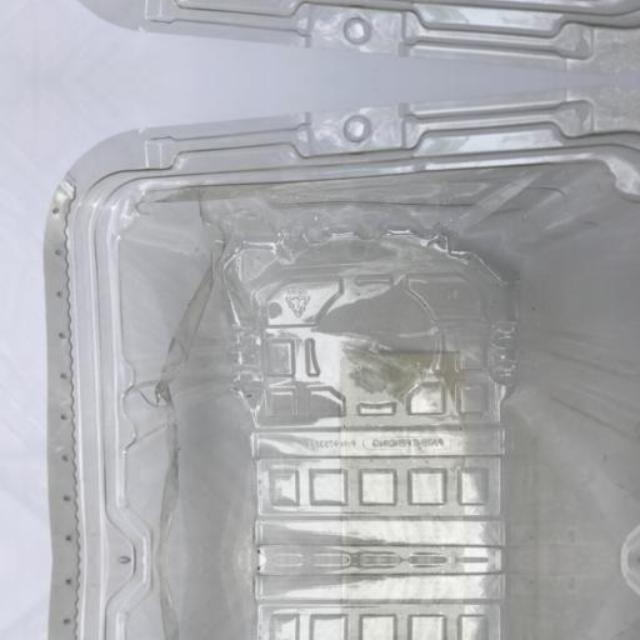Plastic: (30, 106, 640, 560), (30, 560, 640, 640), (30, 0, 640, 54)
